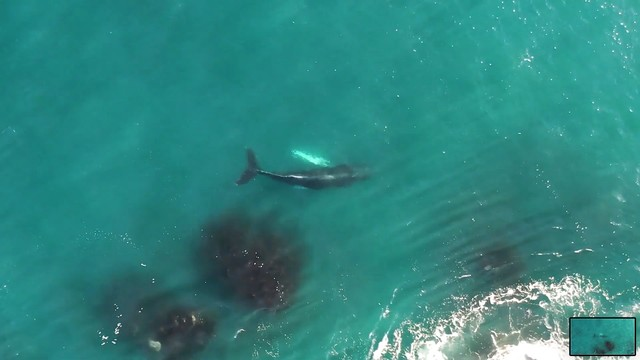whale: (230, 138, 381, 197)
